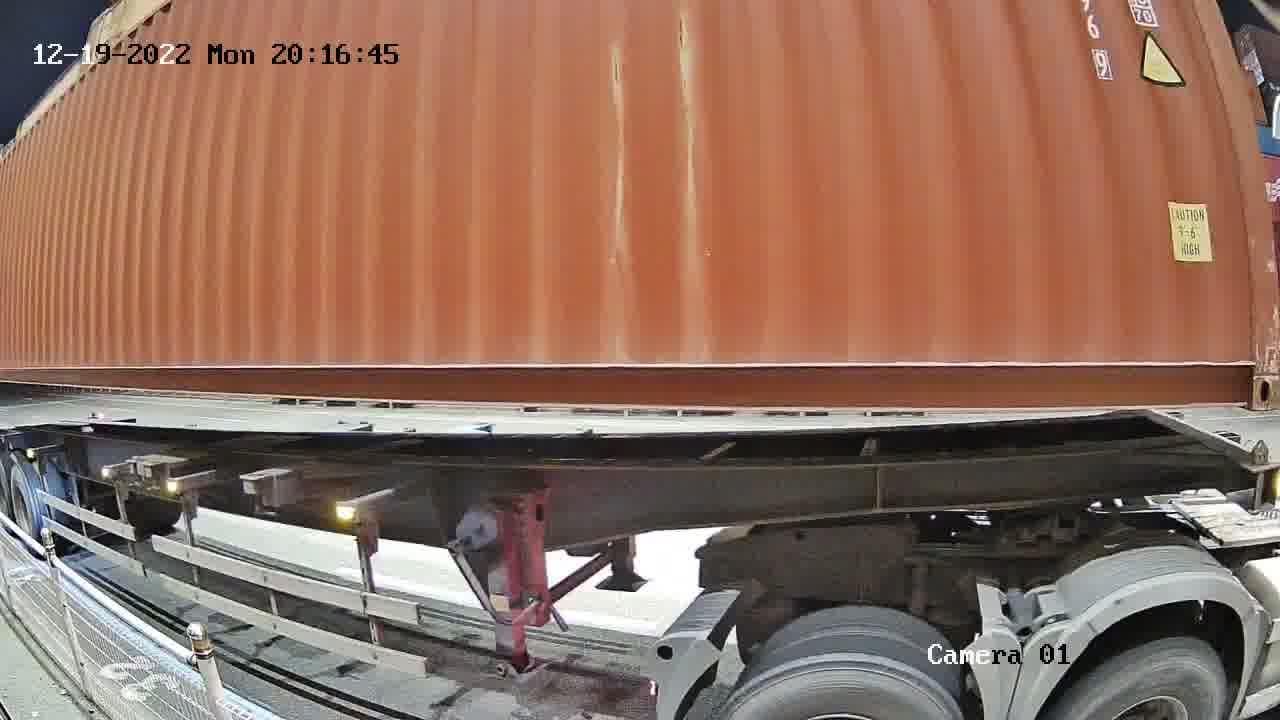Cone: (1246, 440, 1278, 510)
Hole_R: (1205, 339, 1279, 407)
Tire: (722, 660, 961, 717), (1067, 645, 1223, 713)
